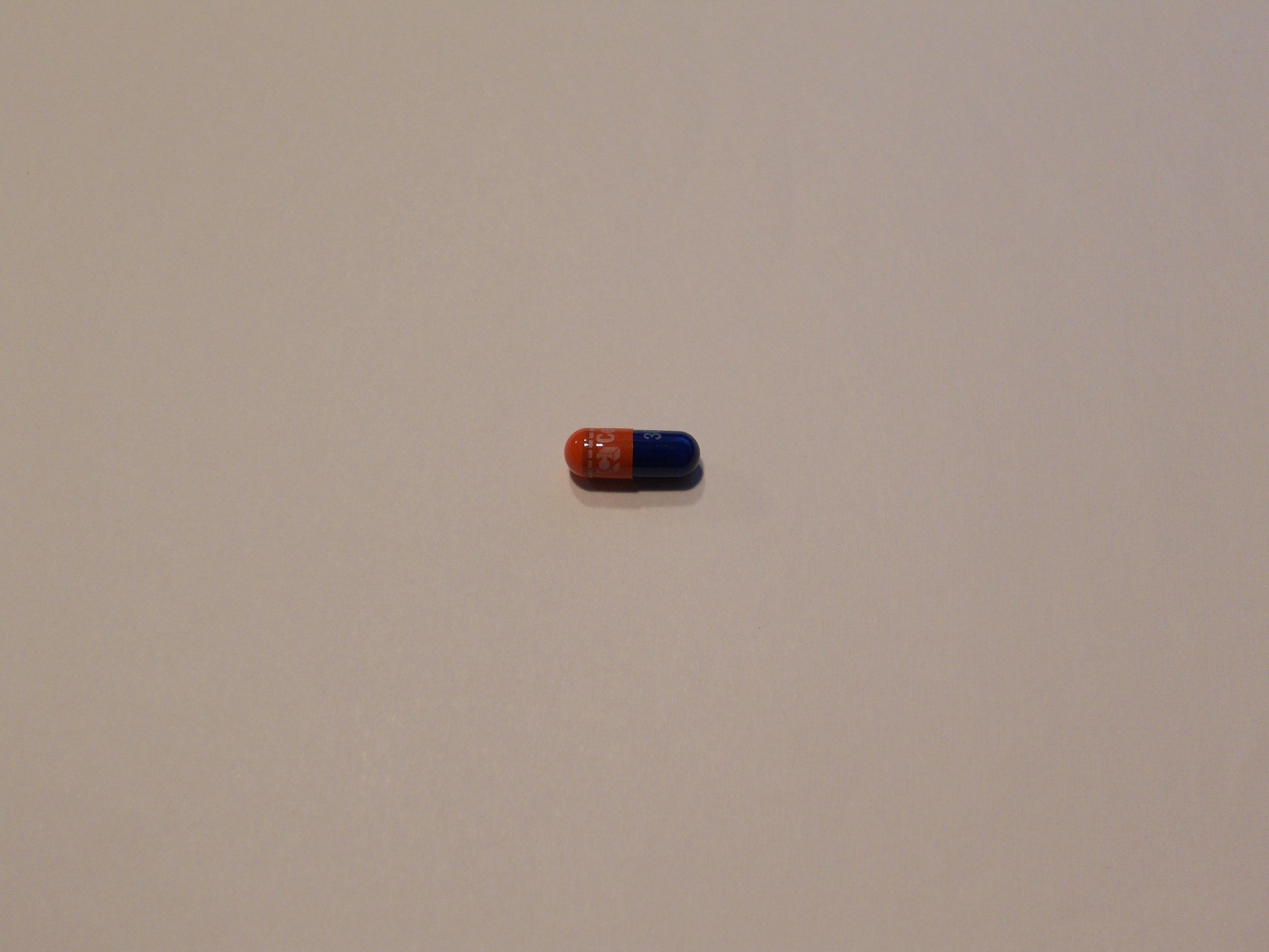Pill: (554, 411, 713, 500)
